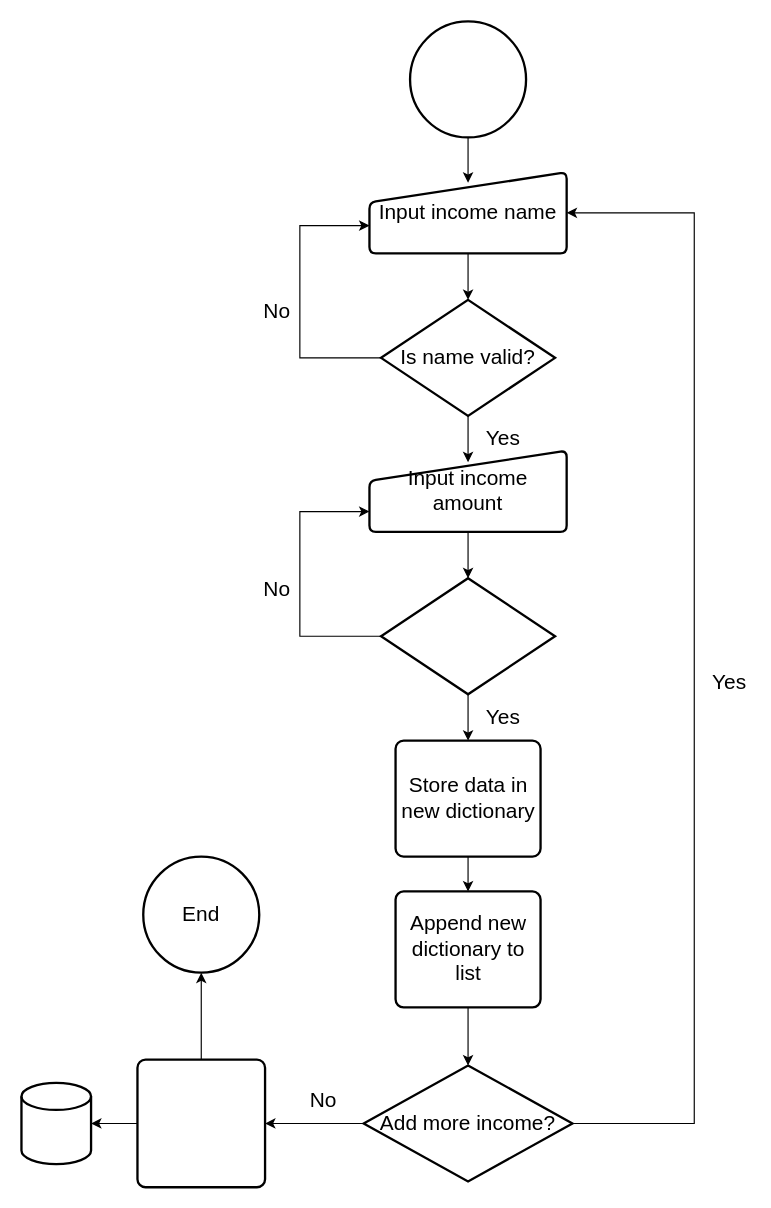
This 771x1208 diagram has some shape labels left out. Each missing label, with the centre of its shape:
Is amount valid?: (x=467, y=636)
Start: (x=467, y=79)
Store income in database: (x=201, y=1123)
